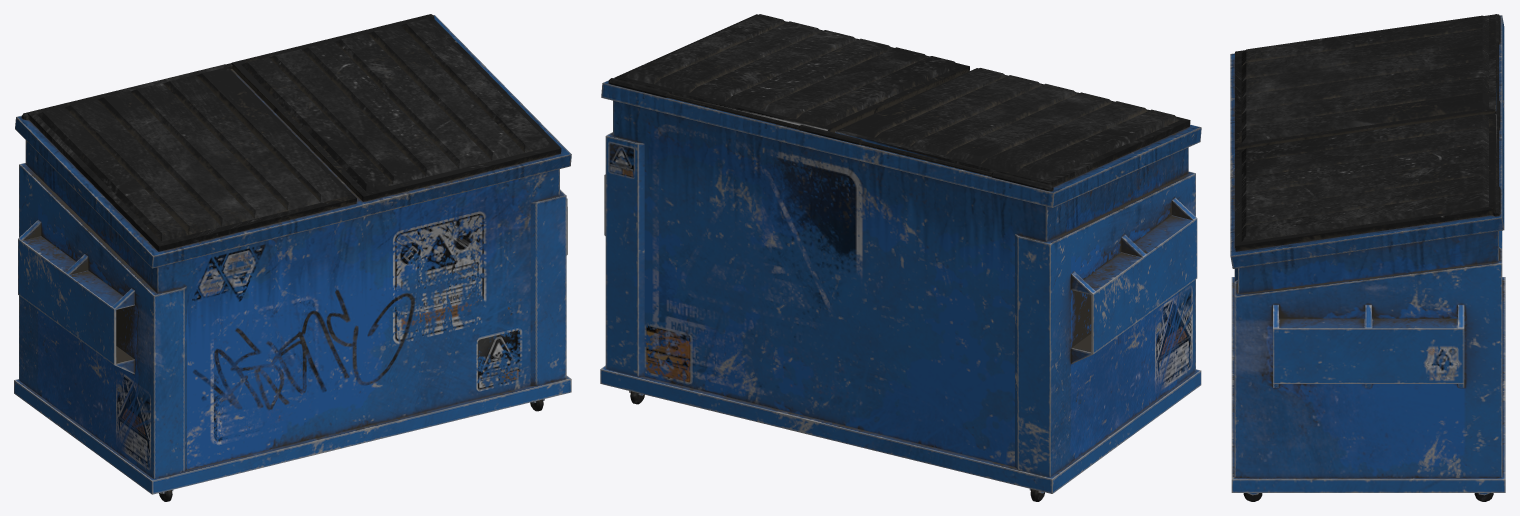
File: dumpster.glb
3 views of the same model, side by side, from view 1: azimuth 30°, elevation 25°; view 2: azimuth 150°, elevation 25°; view 3: azimuth 270°, elevation 25° (orthographic). The views are drawn at different scales.
Visible parts, largest first — view 1: Dumpster _low.001; view 2: Dumpster _low.001; view 3: Dumpster _low.001.
Part boxes in pixels (<box>): Dumpster _low.001: <box>14,14,571,501</box>; Dumpster _low.001: <box>600,14,1201,501</box>; Dumpster _low.001: <box>1230,14,1505,501</box>.
Size of the model in its own units: 2.98 by 1.92 by 1.58.
1 material, 1 textured.
